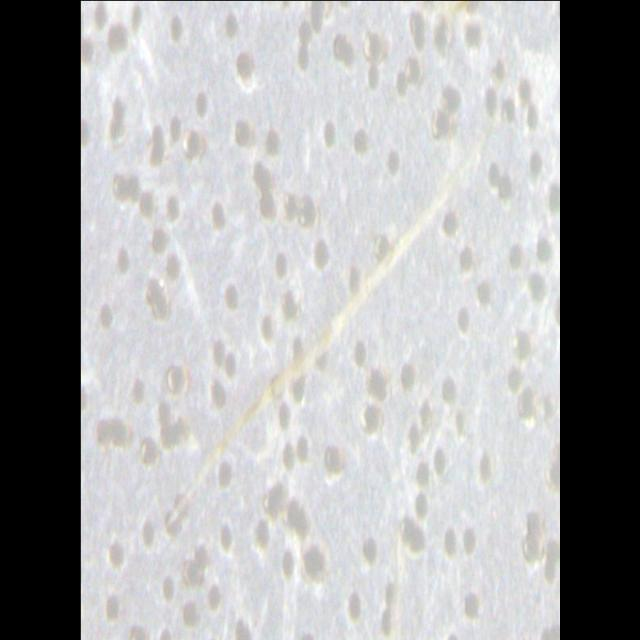Fibre: (162, 103, 494, 530)
